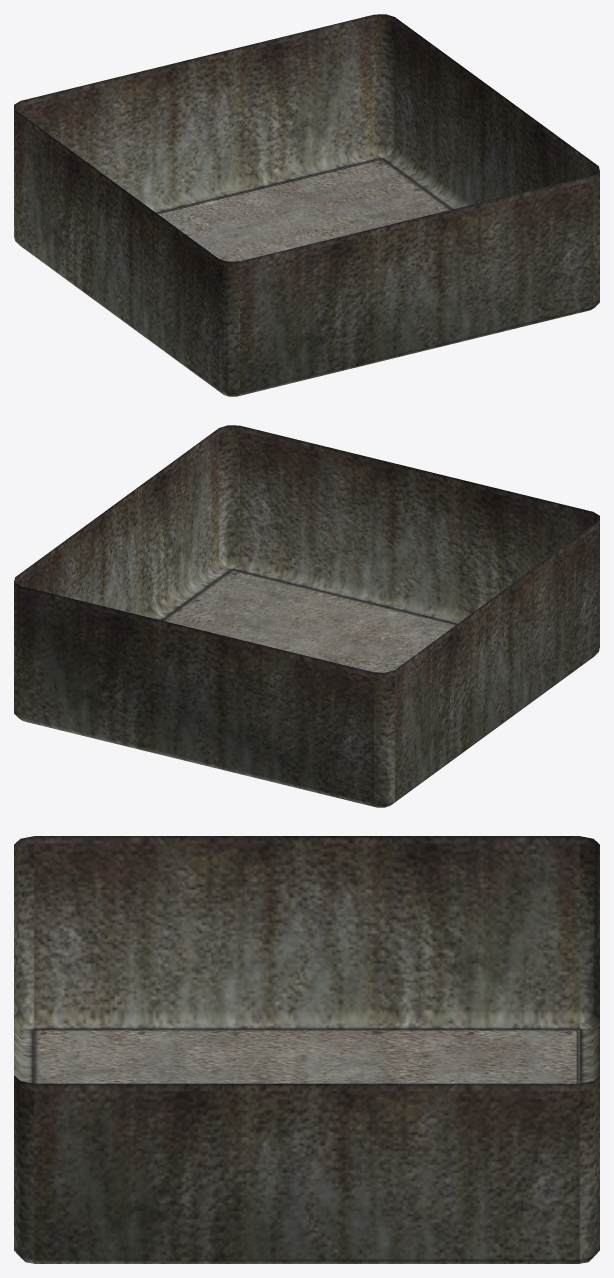
Rendered from lab_ceiling_box_4way_plain_rusty.dae.
3 views of the same model, one above another, from view 1: azimuth 30°, elevation 25°; view 2: azimuth 150°, elevation 25°; view 3: azimuth 270°, elevation 25° (orthographic). The views are drawn at different scales.
Visible parts, largest first — view 1: lab_ceiling_box_4way_plain; view 2: lab_ceiling_box_4way_plain; view 3: lab_ceiling_box_4way_plain.
Part boxes in pixels (box(x1,y1,x2,y2)): lab_ceiling_box_4way_plain: box(14, 14, 599, 396); lab_ceiling_box_4way_plain: box(14, 425, 599, 807); lab_ceiling_box_4way_plain: box(14, 836, 599, 1263).
Size of the model in its own units: 2.15 by 0.75 by 2.15.
